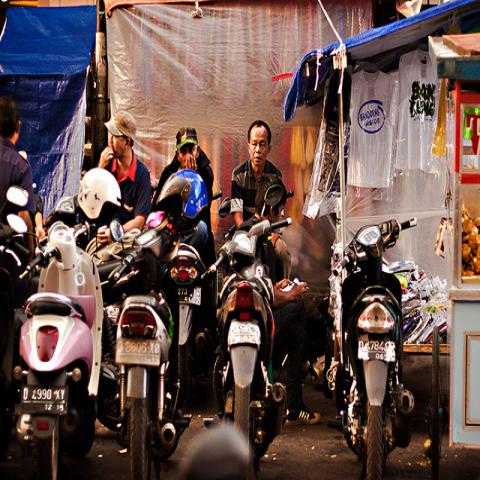motorcycle: (10, 168, 122, 474), (106, 171, 212, 479), (208, 186, 296, 469), (329, 210, 422, 475), (85, 229, 142, 432), (167, 215, 217, 406), (0, 185, 32, 462)
